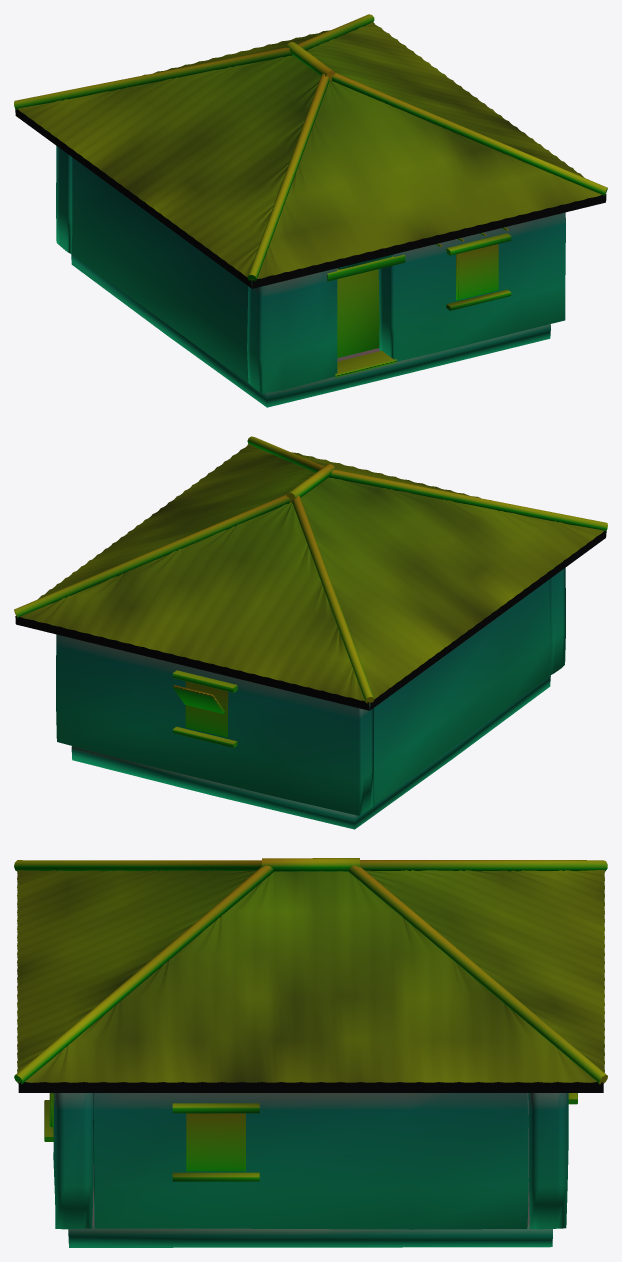
File: lowtown_house_a.glb
The picture shows the model from 3 angles, top to bottom: view 1: azimuth 30°, elevation 25°; view 2: azimuth 150°, elevation 25°; view 3: azimuth 270°, elevation 25°; orthographic projection. The views are drawn at different scales.
Visible parts, largest first — view 1: lowtown_house_a; view 2: lowtown_house_a; view 3: lowtown_house_a.
Boxes of the visible parts, box(x1,y1,x2,y2) form: lowtown_house_a: box(14, 14, 607, 407); lowtown_house_a: box(14, 436, 607, 829); lowtown_house_a: box(14, 858, 607, 1247).
Size of what is drawn, in the model's own units: 6.51 by 4.26 by 7.51.
